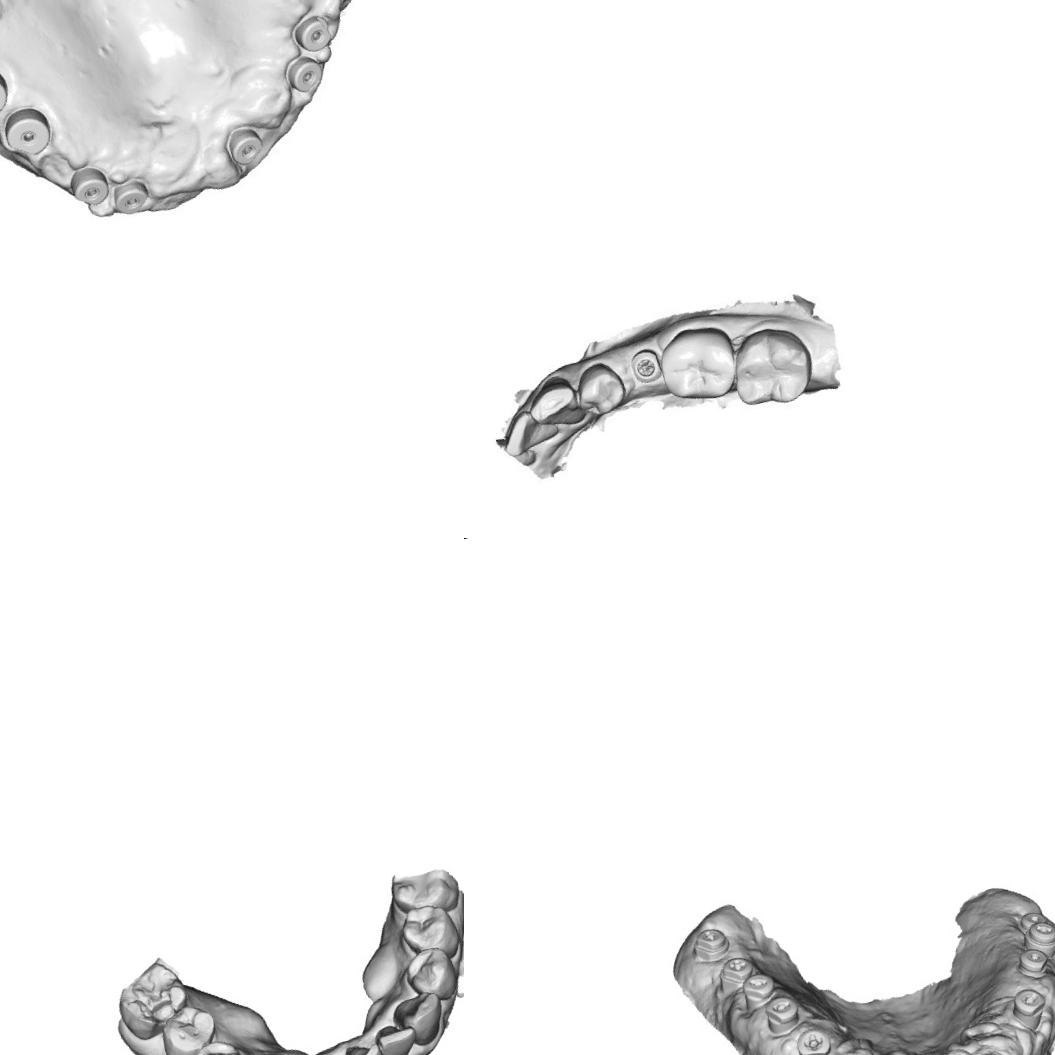canine: (524, 370, 592, 441), (388, 986, 452, 1052)
implant: (0, 99, 56, 161), (66, 162, 112, 210), (222, 121, 268, 168), (288, 10, 335, 56), (282, 50, 326, 96), (622, 344, 668, 388), (108, 175, 152, 218), (1010, 942, 1054, 982), (1015, 906, 1049, 933), (0, 59, 14, 122)
implant_minus: (1003, 982, 1053, 1036), (758, 990, 804, 1038), (687, 922, 733, 966), (736, 968, 780, 1011), (1018, 916, 1055, 963)
implant_plus: (711, 946, 761, 994), (789, 1019, 837, 1055), (937, 1039, 981, 1055)
incisor: (500, 400, 564, 458), (371, 1016, 423, 1055), (342, 1036, 389, 1055)
molar: (720, 318, 821, 418), (650, 316, 748, 410), (108, 955, 196, 1045), (383, 852, 464, 925)
premolar: (394, 897, 464, 970), (399, 940, 463, 1008), (152, 997, 225, 1055), (571, 357, 630, 423), (188, 1033, 252, 1055)
